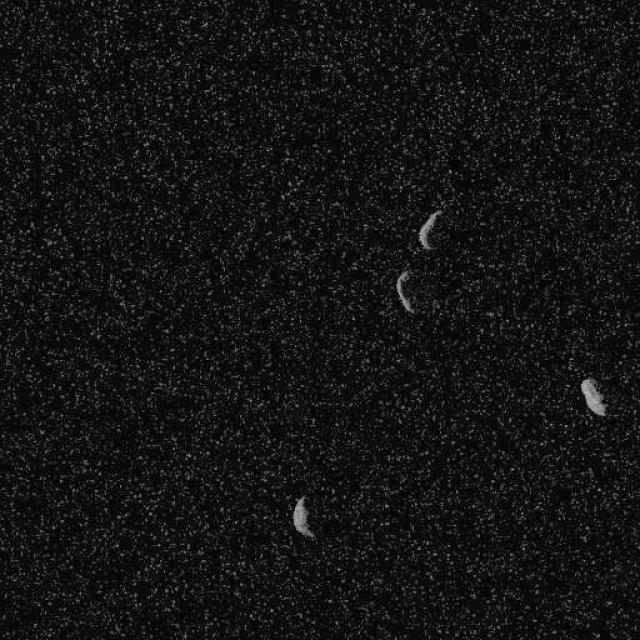D2: (578, 376, 608, 416), (292, 495, 316, 539), (417, 209, 442, 251), (395, 268, 415, 314)
